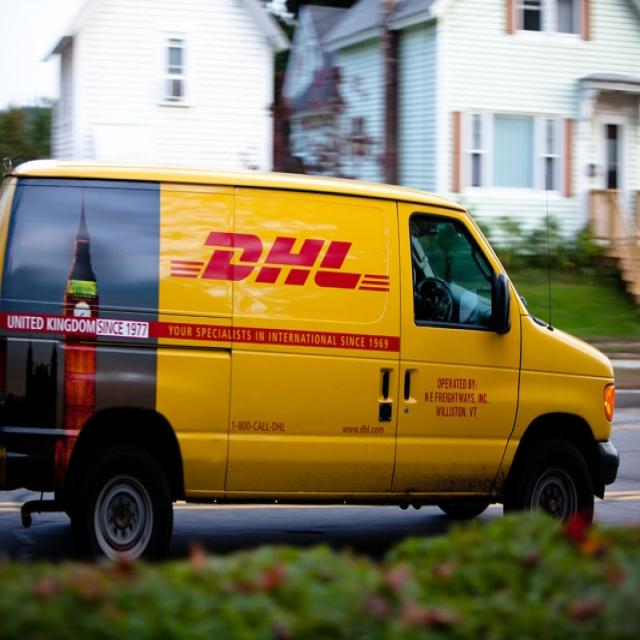dhl: (164, 227, 400, 300)
